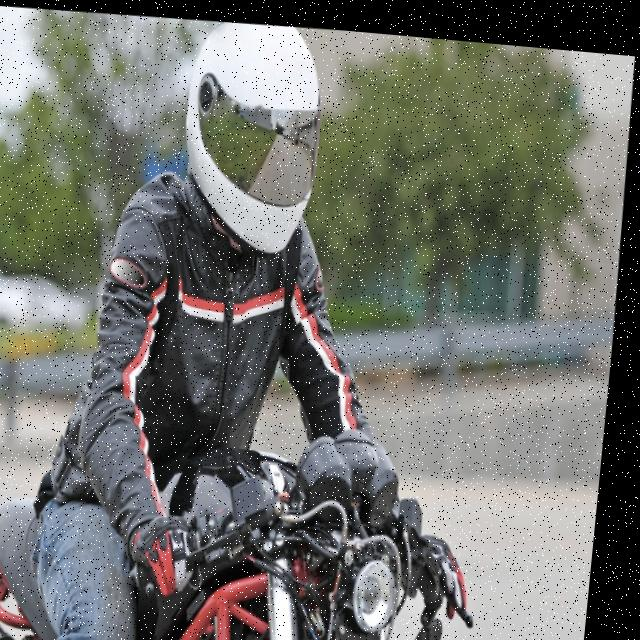helmet: (170, 13, 337, 266)
